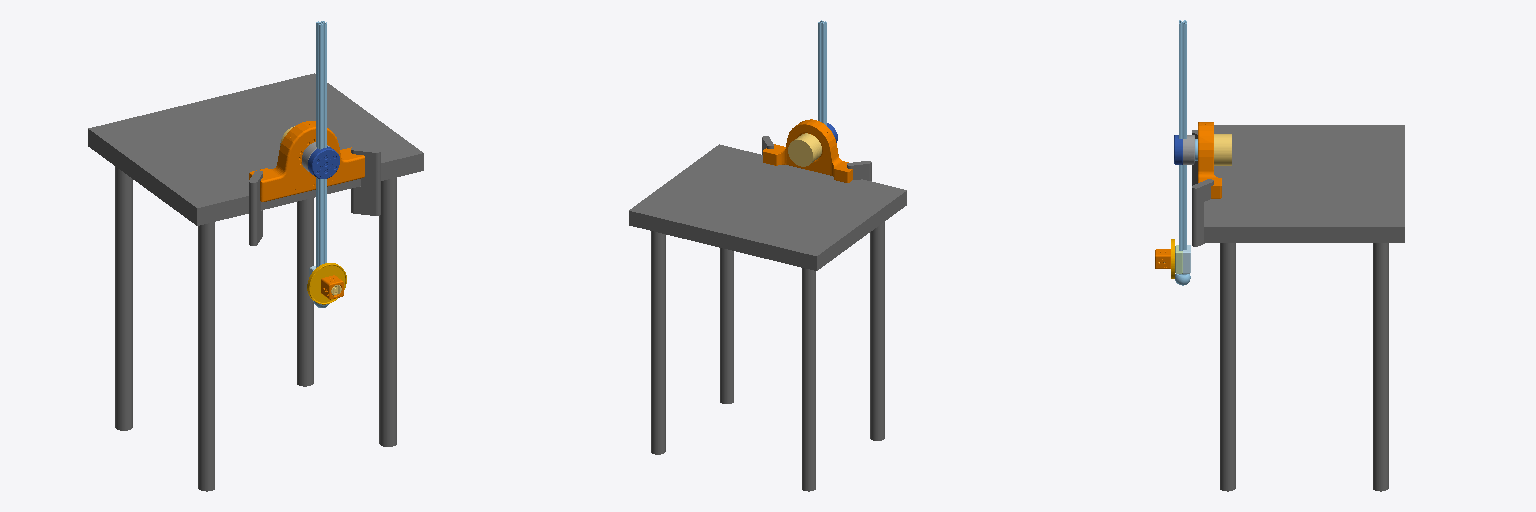
The robot description file, URDF, robot "pendulum_test":
<?xml version="1.0" ?>
<!-- Generated using onshape-to-robot -->
<!-- Onshape https://cad.onshape.com/documents/0a7fad25fc76b10bc68cd82a/w/96b966e5cc4db55c79c14ab1/e/d1fe285537dc0b80065003c2 -->
<robot name="pendulum_test">
  <!-- Link urdf_masa -->
  <link name="urdf_masa">
    <inertial>
      <origin xyz="1.101e-09 -0.00216375 0.0537769" rpy="0 0 0"/>
      <mass value="16.32"/>
      <inertia ixx="0.925693" ixy="4.516e-09" ixz="1.9989e-08" iyy="1.0281" iyz="0.0467944" izz="0.966281"/>
    </inertial>
    <!-- Part urdf_menghina -->
    <visual>
      <origin xyz="-1.1089e-08 -0.223416 0.181468" rpy="-1.5708 0 3.14159"/>
      <geometry>
        <mesh filename="package://pendulum_description/meshes/urdf_menghina.stl"/>
      </geometry>
      <material name="urdf_menghina_material">
        <color rgba="0.972549 0.529412 0.00392157 1"/>
      </material>
    </visual>
    <collision>
      <origin xyz="-1.1089e-08 -0.223416 0.181468" rpy="-1.5708 0 3.14159"/>
      <geometry>
        <mesh filename="package://pendulum_description/meshes/urdf_menghina.stl"/>
      </geometry>
    </collision>
    <!-- Part urdf_masa -->
    <visual>
      <origin xyz="-0 0.0156153 0.041001" rpy="-1.5708 -0 3.14159"/>
      <geometry>
        <mesh filename="package://pendulum_description/meshes/urdf_masa.stl"/>
      </geometry>
      <material name="urdf_masa_material">
        <color rgba="0.498039 0.498039 0.498039 1"/>
      </material>
    </visual>
    <collision>
      <origin xyz="-0 0.0156153 0.041001" rpy="-1.5708 -0 3.14159"/>
      <geometry>
        <mesh filename="package://pendulum_description/meshes/urdf_masa.stl"/>
      </geometry>
    </collision>
    <!-- Part urdf_x6 -->
    <visual>
      <origin xyz="-0 -0.191779 0.209622" rpy="-1.5708 0 3.14159"/>
      <geometry>
        <mesh filename="package://pendulum_description/meshes/urdf_x6.stl"/>
      </geometry>
      <material name="urdf_x6_material">
        <color rgba="0.960784 0.835294 0.470588 1"/>
      </material>
    </visual>
    <collision>
      <origin xyz="-0 -0.191779 0.209622" rpy="-1.5708 0 3.14159"/>
      <geometry>
        <mesh filename="package://pendulum_description/meshes/urdf_x6.stl"/>
      </geometry>
    </collision>
  </link>
  <!-- Link urdf_spacer -->
  <link name="urdf_spacer">
    <inertial>
      <origin xyz="-9.40034e-07 3.43567e-06 -0.0451209" rpy="0 0 0"/>
      <mass value="0.277"/>
      <inertia ixx="0.000204906" ixy="3.75e-10" ixz="1.0966e-08" iyy="0.000188403" iyz="5.527e-09" izz="0.000195731"/>
    </inertial>
    <!-- Part urdf_rotor_base -->
    <visual>
      <origin xyz="-0 0 -0.0387375" rpy="-3.14159 -0 -3.14159"/>
      <geometry>
        <mesh filename="package://pendulum_description/meshes/urdf_rotor_base.stl"/>
      </geometry>
      <material name="urdf_rotor_base_material">
        <color rgba="0.647059 0.647059 0.647059 1"/>
      </material>
    </visual>
    <collision>
      <origin xyz="-0 0 -0.0387375" rpy="-3.14159 -0 -3.14159"/>
      <geometry>
        <mesh filename="package://pendulum_description/meshes/urdf_rotor_base.stl"/>
      </geometry>
    </collision>
    <!-- Part urdf_spacer -->
    <visual>
      <origin xyz="-1.03149e-05 -0 -0.012" rpy="-3.14159 -0 1.5708"/>
      <geometry>
        <mesh filename="package://pendulum_description/meshes/urdf_spacer.stl"/>
      </geometry>
      <material name="urdf_spacer_material">
        <color rgba="0.615686 0.811765 0.929412 1"/>
      </material>
    </visual>
    <collision>
      <origin xyz="-1.03149e-05 -0 -0.012" rpy="-3.14159 -0 1.5708"/>
      <geometry>
        <mesh filename="package://pendulum_description/meshes/urdf_spacer.stl"/>
      </geometry>
    </collision>
    <!-- Part urdf_rotor_lid -->
    <visual>
      <origin xyz="1.33413e-07 -1.26979e-06 -0.065381" rpy="-3.14159 -0 -3.14159"/>
      <geometry>
        <mesh filename="package://pendulum_description/meshes/urdf_rotor_lid.stl"/>
      </geometry>
      <material name="urdf_rotor_lid_material">
        <color rgba="0.231373 0.380392 0.705882 1"/>
      </material>
    </visual>
    <collision>
      <origin xyz="1.33413e-07 -1.26979e-06 -0.065381" rpy="-3.14159 -0 -3.14159"/>
      <geometry>
        <mesh filename="package://pendulum_description/meshes/urdf_rotor_lid.stl"/>
      </geometry>
    </collision>
  </link>
  <!-- Link urdf_profile_700 -->
  <link name="urdf_profile_700">
    <inertial>
      <origin xyz="-0.00432073 -4.9393e-08 -0.445007" rpy="0 0 0"/>
      <mass value="0.525"/>
      <inertia ixx="0.0286674" ixy="1.26e-10" ixz="-0.000466791" iyy="0.0287381" iyz="-6.06e-09" izz="0.000160326"/>
    </inertial>
    <!-- Part urdf_profile_700 -->
    <visual>
      <origin xyz="0 -0 -0.35" rpy="0 -1.5708 0"/>
      <geometry>
        <mesh filename="package://pendulum_description/meshes/urdf_profile_700.stl"/>
      </geometry>
      <material name="urdf_profile_700_material">
        <color rgba="0.615686 0.811765 0.929412 1"/>
      </material>
    </visual>
    <collision>
      <origin xyz="0 -0 -0.35" rpy="0 -1.5708 0"/>
      <geometry>
        <mesh filename="package://pendulum_description/meshes/urdf_profile_700.stl"/>
      </geometry>
    </collision>
    <!-- Part urdf_cap -->
    <visual>
      <origin xyz="-1.6356e-08 -0 0.0033423" rpy="-0 1.5708 0"/>
      <geometry>
        <mesh filename="package://pendulum_description/meshes/urdf_cap.stl"/>
      </geometry>
      <material name="urdf_cap_material">
        <color rgba="0.615686 0.811765 0.929412 1"/>
      </material>
    </visual>
    <collision>
      <origin xyz="-1.6356e-08 -0 0.0033423" rpy="-0 1.5708 0"/>
      <geometry>
        <mesh filename="package://pendulum_description/meshes/urdf_cap.stl"/>
      </geometry>
    </collision>
    <!-- Part urdf_weight_base -->
    <visual>
      <origin xyz="0.0108614 -5.77328e-07 -0.650001" rpy="0 -1.5708 0"/>
      <geometry>
        <mesh filename="package://pendulum_description/meshes/urdf_weight_base.stl"/>
      </geometry>
      <material name="urdf_weight_base_material">
        <color rgba="0.768627 0.886275 0.952941 1"/>
      </material>
    </visual>
    <collision>
      <origin xyz="0.0108614 -5.77328e-07 -0.650001" rpy="0 -1.5708 0"/>
      <geometry>
        <mesh filename="package://pendulum_description/meshes/urdf_weight_base.stl"/>
      </geometry>
    </collision>
    <!-- Part urdf_weight_lid -->
    <visual>
      <origin xyz="-0.00949929 -1.15e-10 -0.650649" rpy="-0 -1.5708 0"/>
      <geometry>
        <mesh filename="package://pendulum_description/meshes/urdf_weight_lid.stl"/>
      </geometry>
      <material name="urdf_weight_lid_material">
        <color rgba="0.796078 0.905882 0.745098 1"/>
      </material>
    </visual>
    <collision>
      <origin xyz="-0.00949929 -1.15e-10 -0.650649" rpy="-0 -1.5708 0"/>
      <geometry>
        <mesh filename="package://pendulum_description/meshes/urdf_weight_lid.stl"/>
      </geometry>
    </collision>
    <!-- Part urdf_cap2 -->
    <visual>
      <origin xyz="1.6356e-08 -0 -0.703342" rpy="0 -1.5708 0"/>
      <geometry>
        <mesh filename="package://pendulum_description/meshes/urdf_cap2.stl"/>
      </geometry>
      <material name="urdf_cap2_material">
        <color rgba="0.615686 0.811765 0.929412 1"/>
      </material>
    </visual>
    <collision>
      <origin xyz="1.6356e-08 -0 -0.703342" rpy="0 -1.5708 0"/>
      <geometry>
        <mesh filename="package://pendulum_description/meshes/urdf_cap2.stl"/>
      </geometry>
    </collision>
    <!-- Part urdf_weight_shaft -->
    <visual>
      <origin xyz="-0.0372188 2e-12 -0.650649" rpy="-0 -1.5708 0"/>
      <geometry>
        <mesh filename="package://pendulum_description/meshes/urdf_weight_shaft.stl"/>
      </geometry>
      <material name="urdf_weight_shaft_material">
        <color rgba="0.960784 0.835294 0.470588 1"/>
      </material>
    </visual>
    <collision>
      <origin xyz="-0.0372188 2e-12 -0.650649" rpy="-0 -1.5708 0"/>
      <geometry>
        <mesh filename="package://pendulum_description/meshes/urdf_weight_shaft.stl"/>
      </geometry>
    </collision>
  </link>
  <!-- Link urdf_weight -->
  <link name="urdf_weight">
    <inertial>
      <origin xyz="-2.56e-10 8.82e-10 0.00721586" rpy="0 0 0"/>
      <mass value="1.037"/>
      <inertia ixx="0.000384095" ixy="-2.829e-09" ixz="2e-12" iyy="0.000384111" iyz="-1.4e-11" izz="0.000710724"/>
    </inertial>
    <!-- Part urdf_weight_stopper -->
    <visual>
      <origin xyz="-2.991e-09 1.2324e-08 0.0304031" rpy="-0 0 0"/>
      <geometry>
        <mesh filename="package://pendulum_description/meshes/urdf_weight_stopper.stl"/>
      </geometry>
      <material name="urdf_weight_stopper_material">
        <color rgba="0.972549 0.529412 0.00392157 1"/>
      </material>
    </visual>
    <collision>
      <origin xyz="-2.991e-09 1.2324e-08 0.0304031" rpy="-0 0 0"/>
      <geometry>
        <mesh filename="package://pendulum_description/meshes/urdf_weight_stopper.stl"/>
      </geometry>
    </collision>
    <!-- Part urdf_weight -->
    <visual>
      <origin xyz="0 -0 0.0055" rpy="0 0 0"/>
      <geometry>
        <mesh filename="package://pendulum_description/meshes/urdf_weight.stl"/>
      </geometry>
      <material name="urdf_weight_material">
        <color rgba="0.980392 0.713725 0.00392157 1"/>
      </material>
    </visual>
    <collision>
      <origin xyz="0 -0 0.0055" rpy="0 0 0"/>
      <geometry>
        <mesh filename="package://pendulum_description/meshes/urdf_weight.stl"/>
      </geometry>
    </collision>
  </link>
  <!-- Joint from urdf_profile_700 to urdf_weight -->
  <joint name="Weight" type="fixed">
    <origin xyz="-0.0182 -0 -0.65" rpy="3.14159 1.5708 0"/>
    <parent link="urdf_profile_700"/>
    <child link="urdf_weight"/>
    <axis xyz="0 0 1"/>
    <limit effort="10" velocity="10"/>
  </joint>
  <!-- Joint from urdf_spacer to urdf_profile_700 -->
  <joint name="Profile" type="fixed">
    <origin xyz="-0.35 -0 -0.0541" rpy="0 -1.5708 0"/>
    <parent link="urdf_spacer"/>
    <child link="urdf_profile_700"/>
    <axis xyz="0 0 1"/>
    <limit effort="10" velocity="10" lower="0" upper="0"/>
  </joint>
  <!-- Joint from urdf_masa to urdf_spacer -->
  <joint name="rotor_roll_joint" type="revolute">
    <origin xyz="-0 -0.227029 0.209622" rpy="-1.5708 1.5708 0"/>
    <parent link="urdf_masa"/>
    <child link="urdf_spacer"/>
    <axis xyz="0 0 1"/>
    <limit effort="10" velocity="10" lower="-3.141592653589793" upper="3.141592653589793"/>
  </joint>
</robot>

--- Render facts (derived) ---
Views: 3 orthographic renders of the robot side by side, from view 1: azimuth 30°, elevation 25°; view 2: azimuth 150°, elevation 25°; view 3: azimuth 270°, elevation 25°.
Model pendulum_test with 4 links and 3 joints (1 revolute, 2 fixed), rooted at urdf_masa, posed all joints at 0.
Visible links, largest first — view 1: urdf_masa, urdf_profile_700, urdf_weight, urdf_spacer; view 2: urdf_masa, urdf_profile_700; view 3: urdf_masa, urdf_profile_700, urdf_spacer.
Link boxes in pixels (bbox=[...]): urdf_masa: bbox=[88, 73, 423, 491]; urdf_profile_700: bbox=[309, 21, 341, 307]; urdf_weight: bbox=[307, 263, 346, 304]; urdf_spacer: bbox=[302, 142, 339, 178]; urdf_masa: bbox=[629, 119, 906, 491]; urdf_profile_700: bbox=[818, 20, 826, 125]; urdf_masa: bbox=[1192, 122, 1404, 491]; urdf_profile_700: bbox=[1159, 20, 1190, 285]; urdf_spacer: bbox=[1174, 135, 1197, 164].
Size in the robot's own frame: 0.6 by 0.6203 by 1.17 metres.
13 mesh visuals loaded from 14 distinct referenced files (13 binary STL); not drawn: 1 (reference not matched to a file when rendering).
